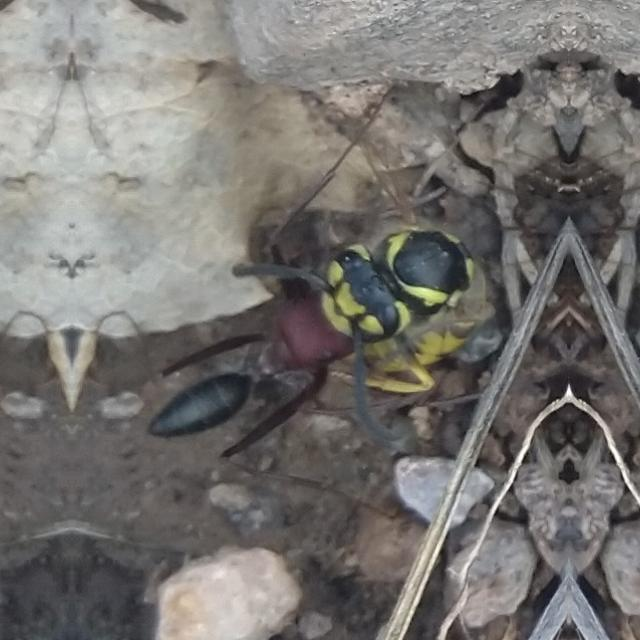Cataglyphis: (101, 267, 375, 499)
